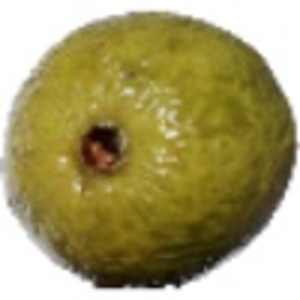goiaba: (4, 4, 298, 294)
